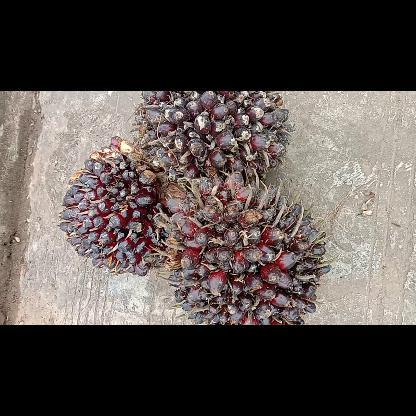TBS mentah: (160, 174, 332, 324), (132, 91, 300, 191), (62, 133, 172, 279)
